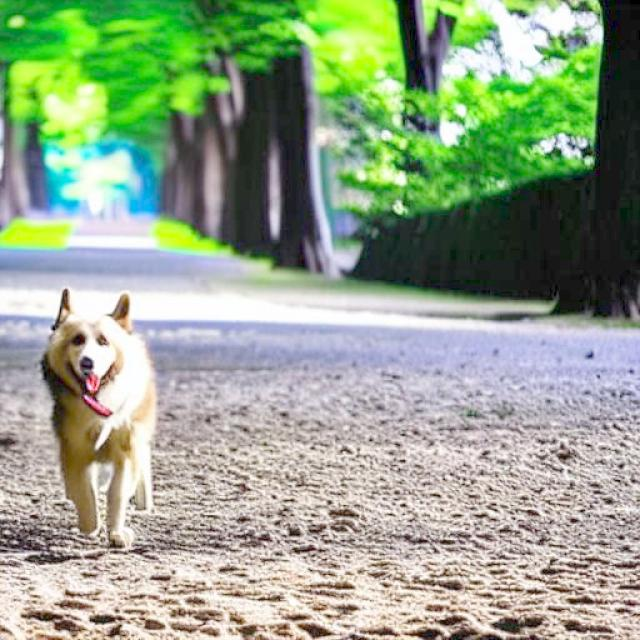Dog: (39, 286, 158, 549)
